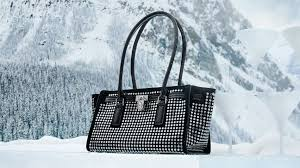bag: (68, 40, 225, 163)
